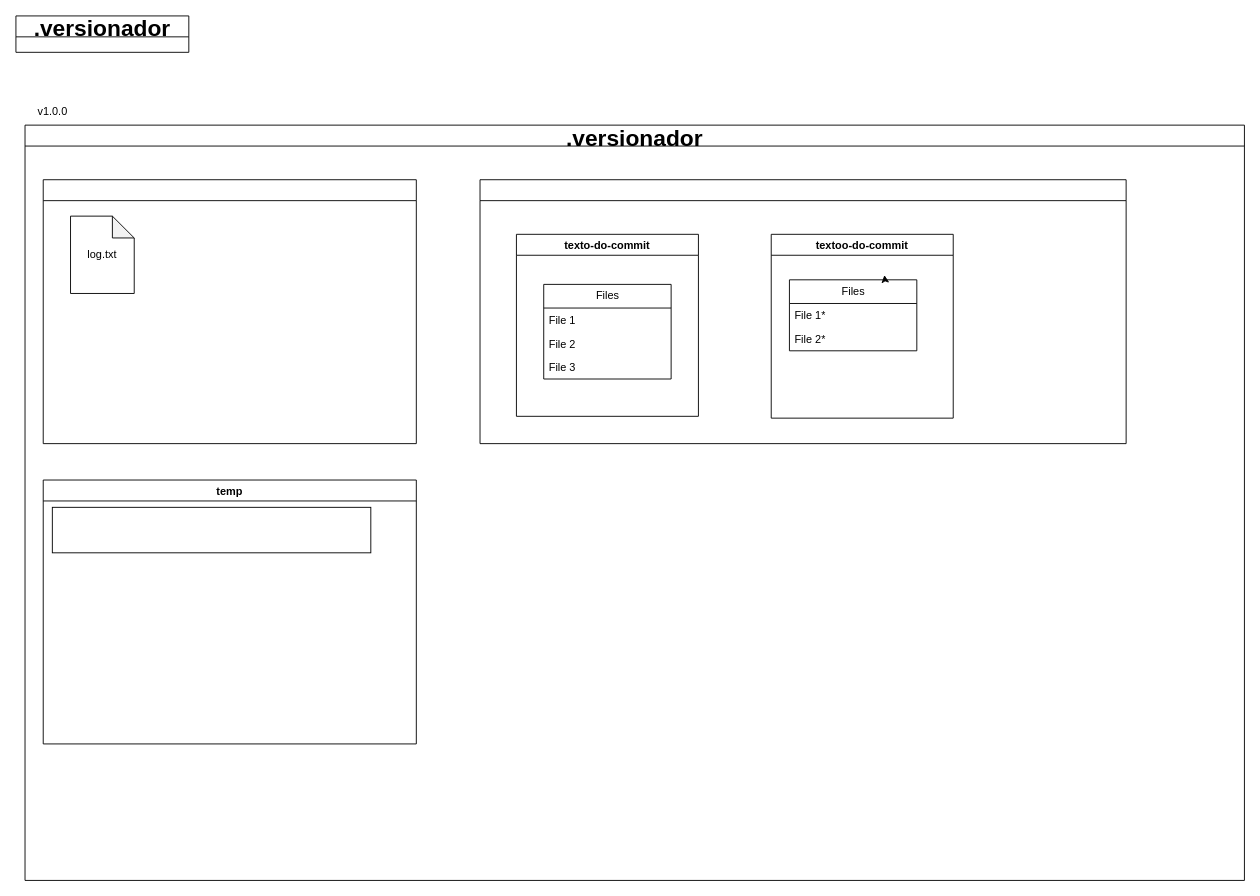
This 1260x896 diagram has some shape labels left out. The shapes that lost their labels are listed below. From the top down, each one's box as (x1, y1, x2, y2) in pixels, then its label:
(42, 179, 416, 444): logs
(479, 179, 1126, 444): snapshots
(51, 506, 371, 553): Essa pasta terá o conteúdo da ultima versão do versionador
